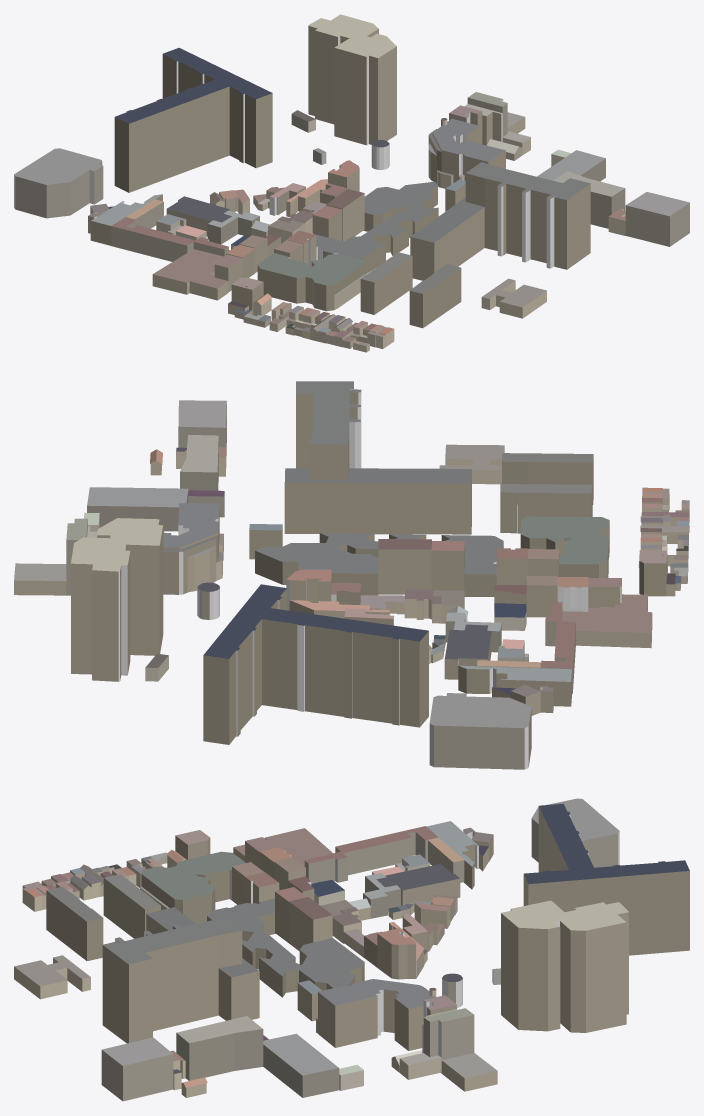
3 renders of one model, top to bottom at view 1: azimuth 30°, elevation 25°; view 2: azimuth 150°, elevation 25°; view 3: azimuth 270°, elevation 25°, orthographic. The views are drawn at different scales.
Visible parts, largest first — view 1: tuile; view 2: tuile; view 3: tuile.
Part boxes in pixels (x1,y1,x2,y2): tuile: [14, 14, 689, 352]; tuile: [14, 381, 689, 769]; tuile: [14, 798, 689, 1101].
Bounding box in the file's own units: 278 × 52.97 × 295.
